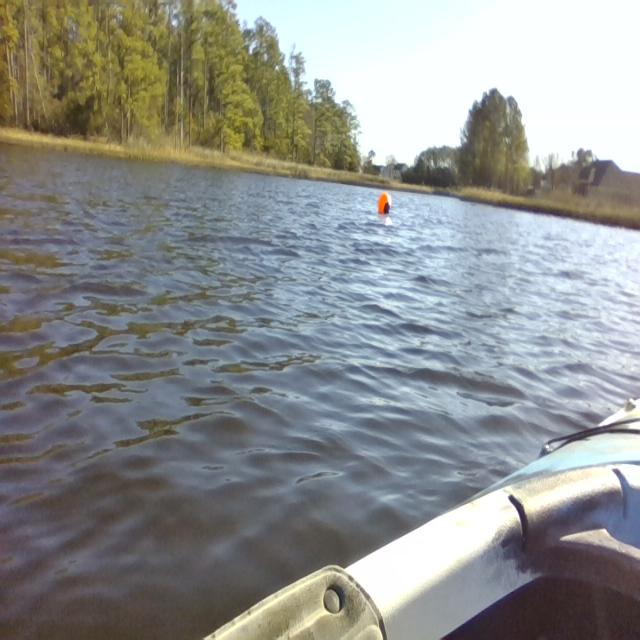Buoy: (375, 188, 394, 222)
